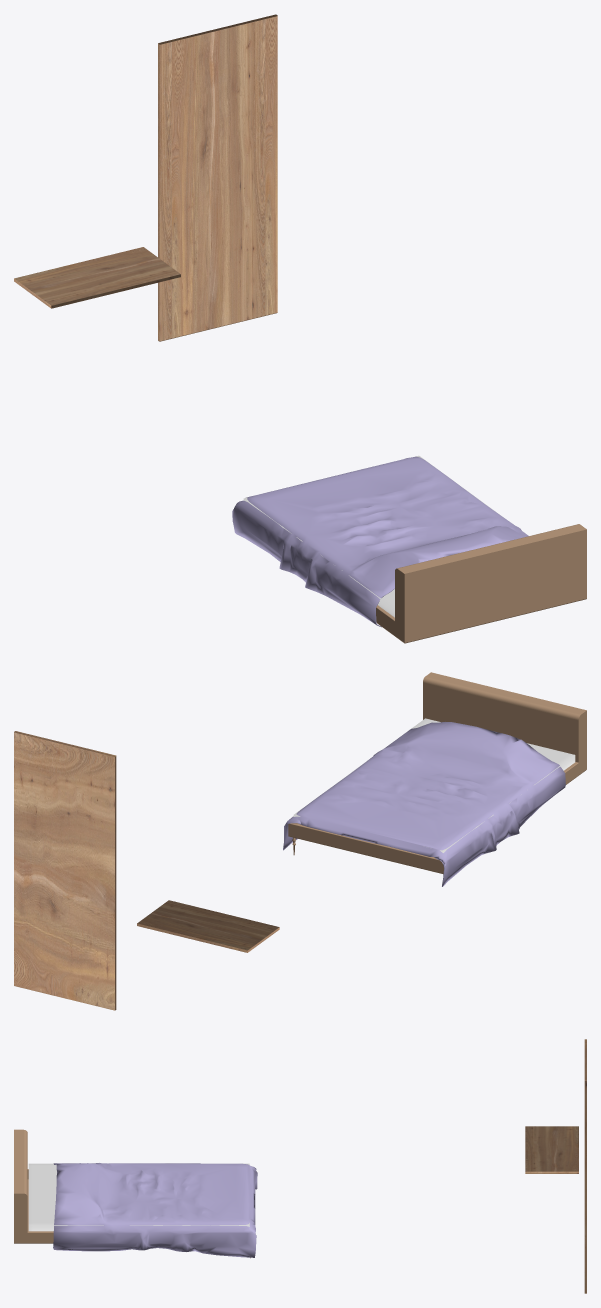
The model's file is stage3Models.glb.
The picture shows the model from 3 angles, top to bottom: view 1: azimuth 30°, elevation 25°; view 2: azimuth 150°, elevation 25°; view 3: azimuth 270°, elevation 25°; orthographic projection. The views are drawn at different scales.
Visible parts, largest first — view 1: box004.003, blanket, bed frame, box004.001; view 2: box004.003, blanket, bed frame, box004.001, matress; view 3: blanket, box004.001, matress, bed frame, box004.003.
Part boxes in pixels (x1,y1,x2,y2): box004.003: (158, 14, 277, 341); blanket: (232, 456, 528, 627); bed frame: (376, 524, 586, 643); box004.001: (14, 247, 180, 308); box004.003: (14, 731, 116, 1010); blanket: (283, 722, 565, 886); bed frame: (288, 672, 586, 874); box004.001: (137, 900, 279, 952); matress: (293, 718, 575, 852); blanket: (53, 1163, 257, 1257); box004.001: (525, 1126, 578, 1173); matress: (28, 1163, 249, 1231); bed frame: (14, 1129, 53, 1243); box004.003: (584, 1039, 586, 1293).
Size of the model in its own units: 3.87 by 3.91 by 9.53.
4 materials, 1 textured.
